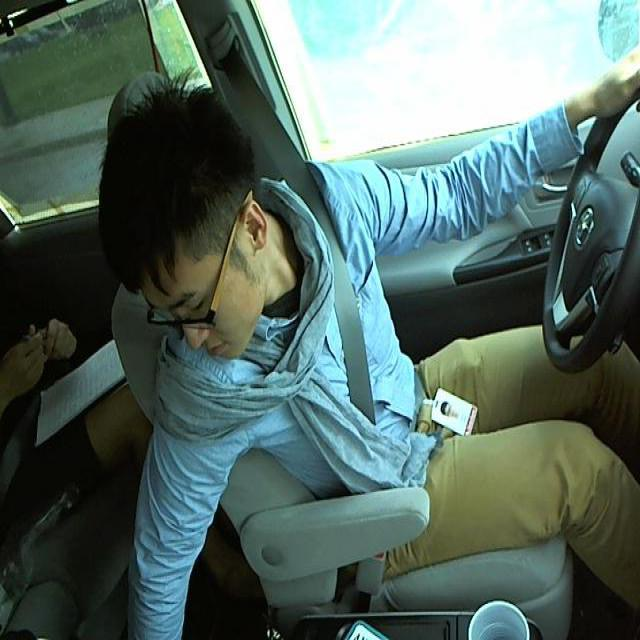seatbelt: (269, 181, 418, 463)
